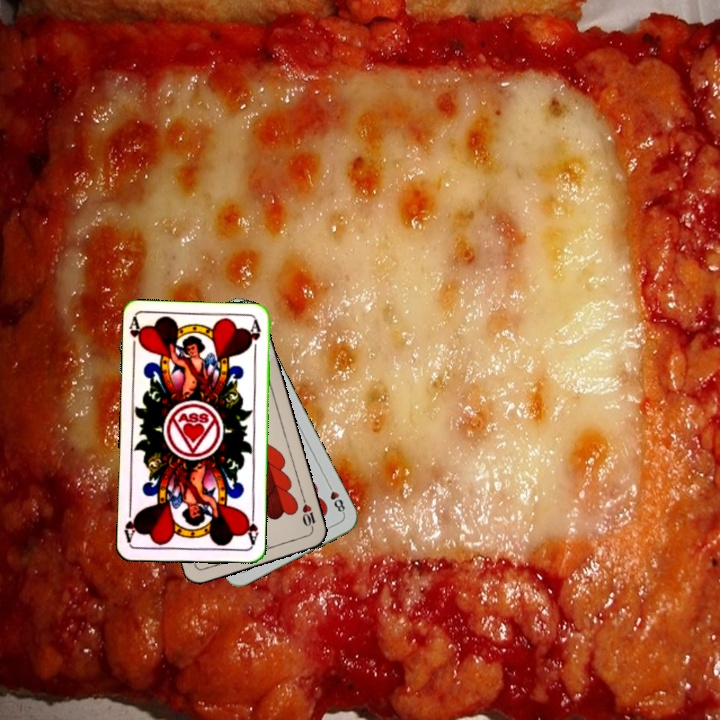H10: (298, 494, 319, 534)
H8: (323, 479, 348, 517)
HA: (241, 507, 261, 547), (126, 315, 145, 355)
